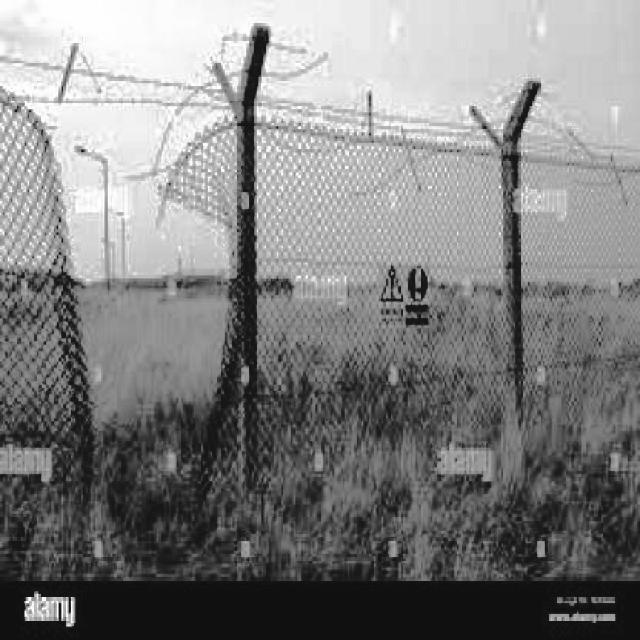anomaly-fence: (13, 44, 312, 506)
